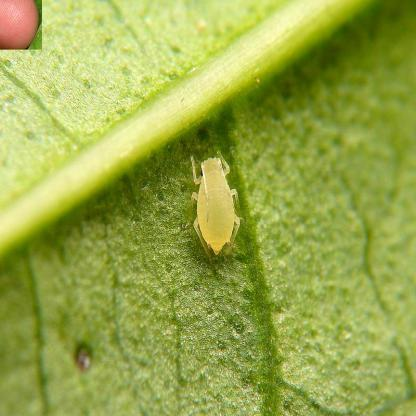aphid: (184, 150, 252, 264)
